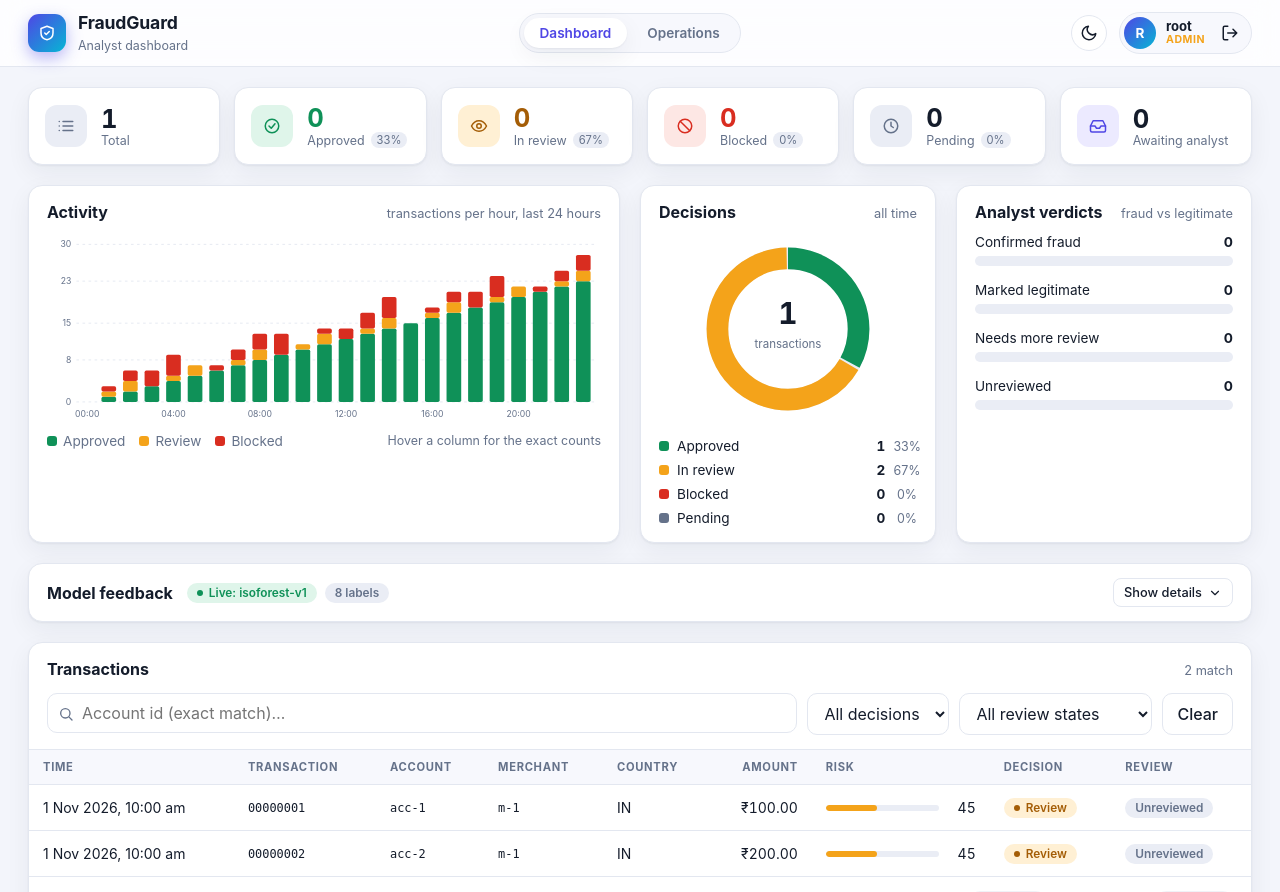
Test: dead-letter topic › lists the causes and the recent events
This screenshot has width=1280, height=892.
Click the button "Operations".
click(683, 33)  # box top-left (631, 18), bottom-right (736, 48)
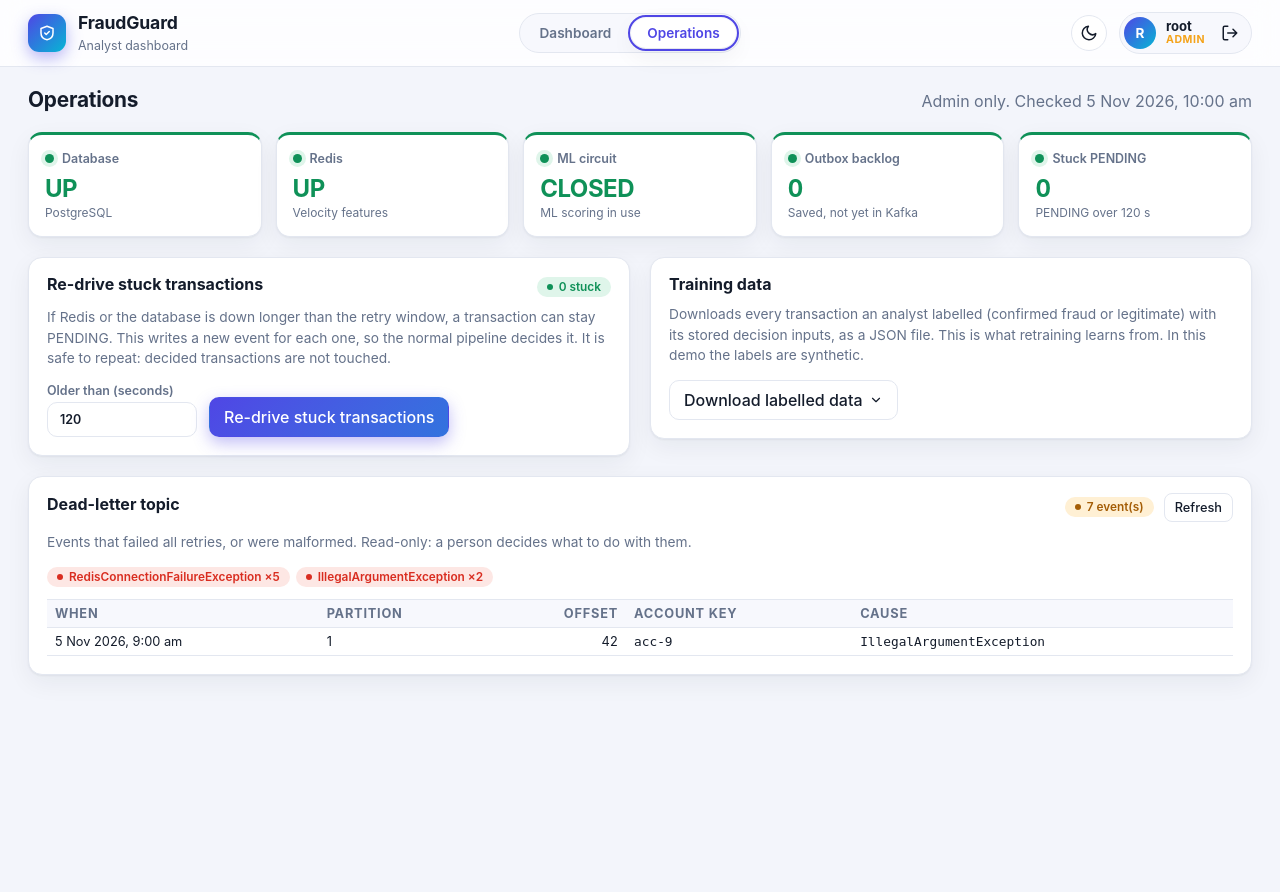
Expected: the text "7 event(s)" is shown, top-left (1065, 497), bottom-right (1154, 517)
Expected: the text "RedisConnectionFailureException ×5" is shown, top-left (47, 567), bottom-right (290, 587)
Expected: the text "acc-9" is shown, top-left (626, 627), bottom-right (852, 655)
